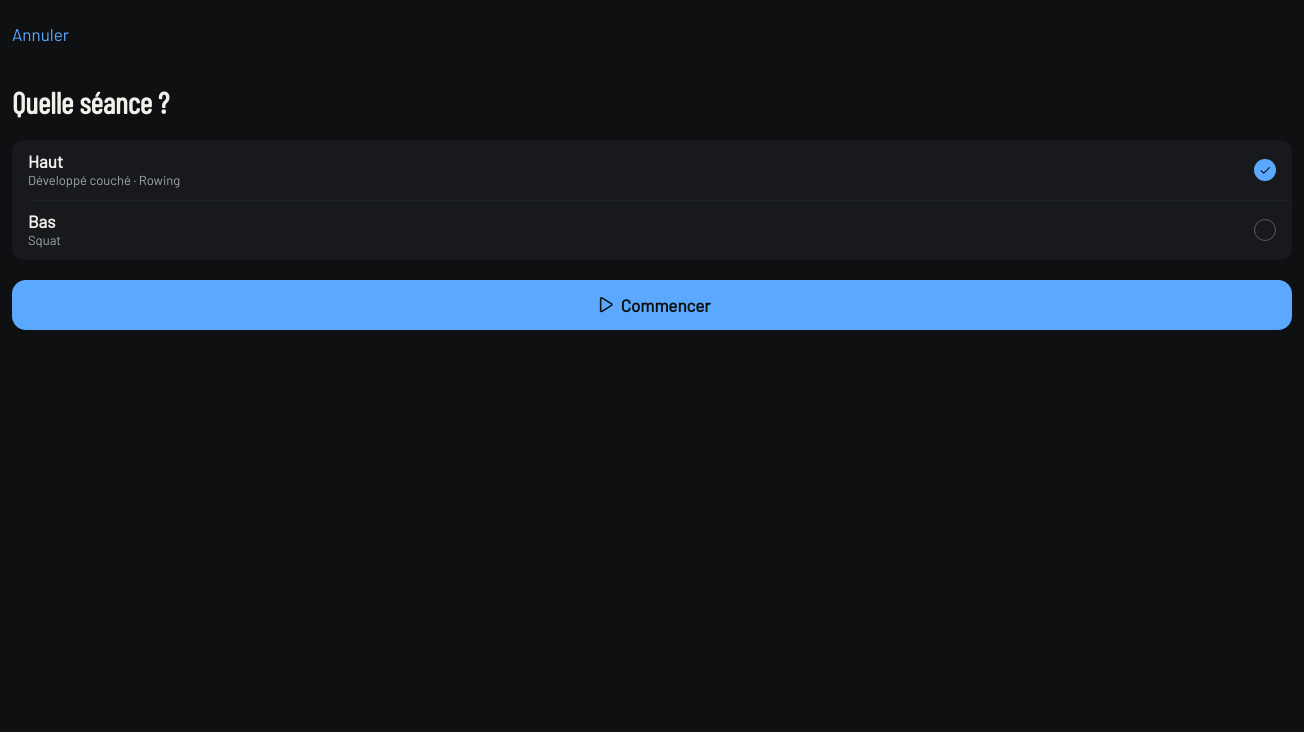
Test: LogSportPage › séance pré-sélectionnée = prochaine du programme, modifiable
Click the button "Bas Squat". click: (45, 240)
box: [12, 200, 1292, 260]
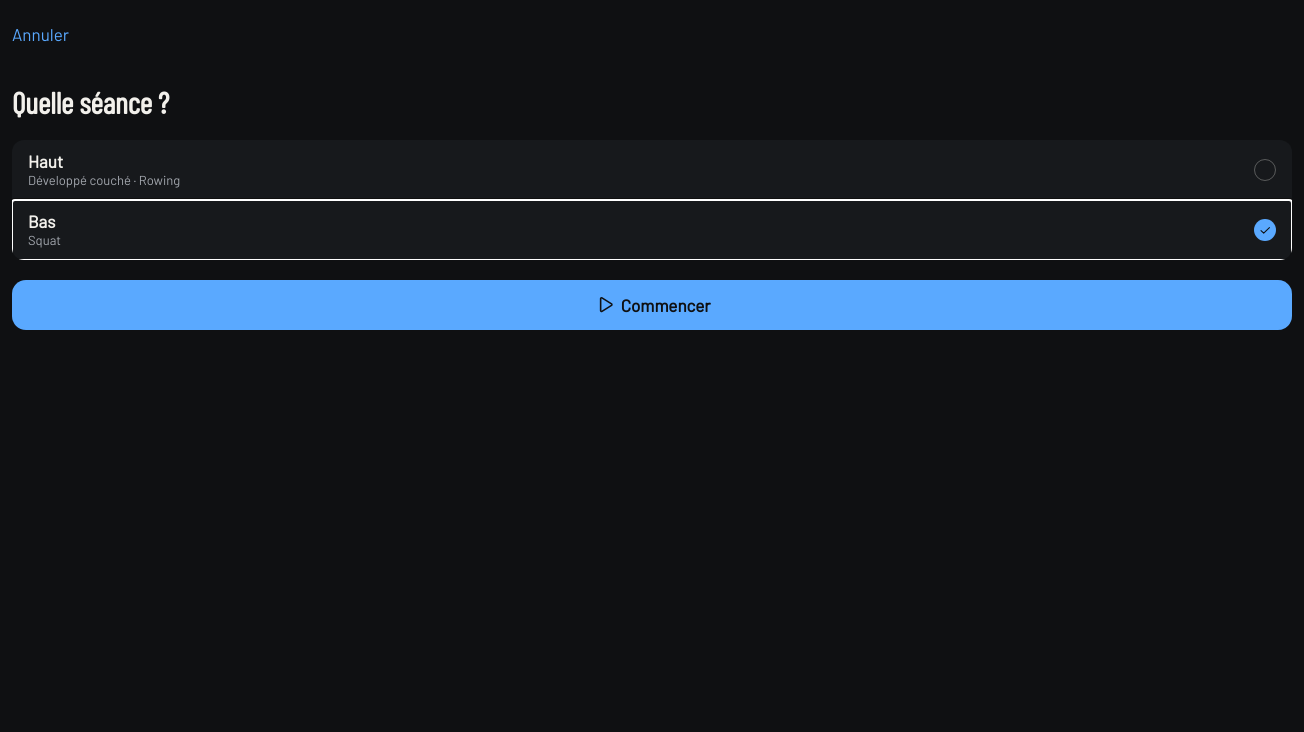
Click the button "Commencer". click: (652, 305)
box: [12, 280, 1292, 330]
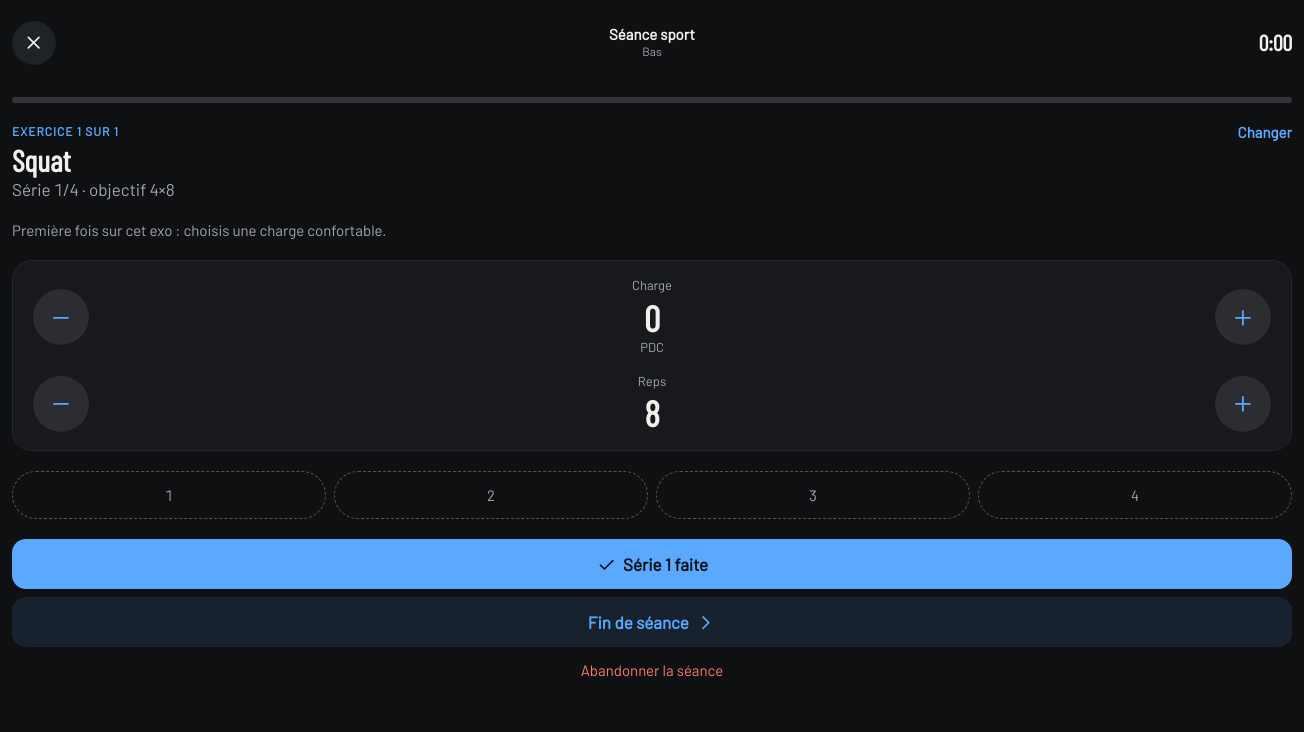
Now the heading "Squat" is shown, box [12, 142, 70, 178]
